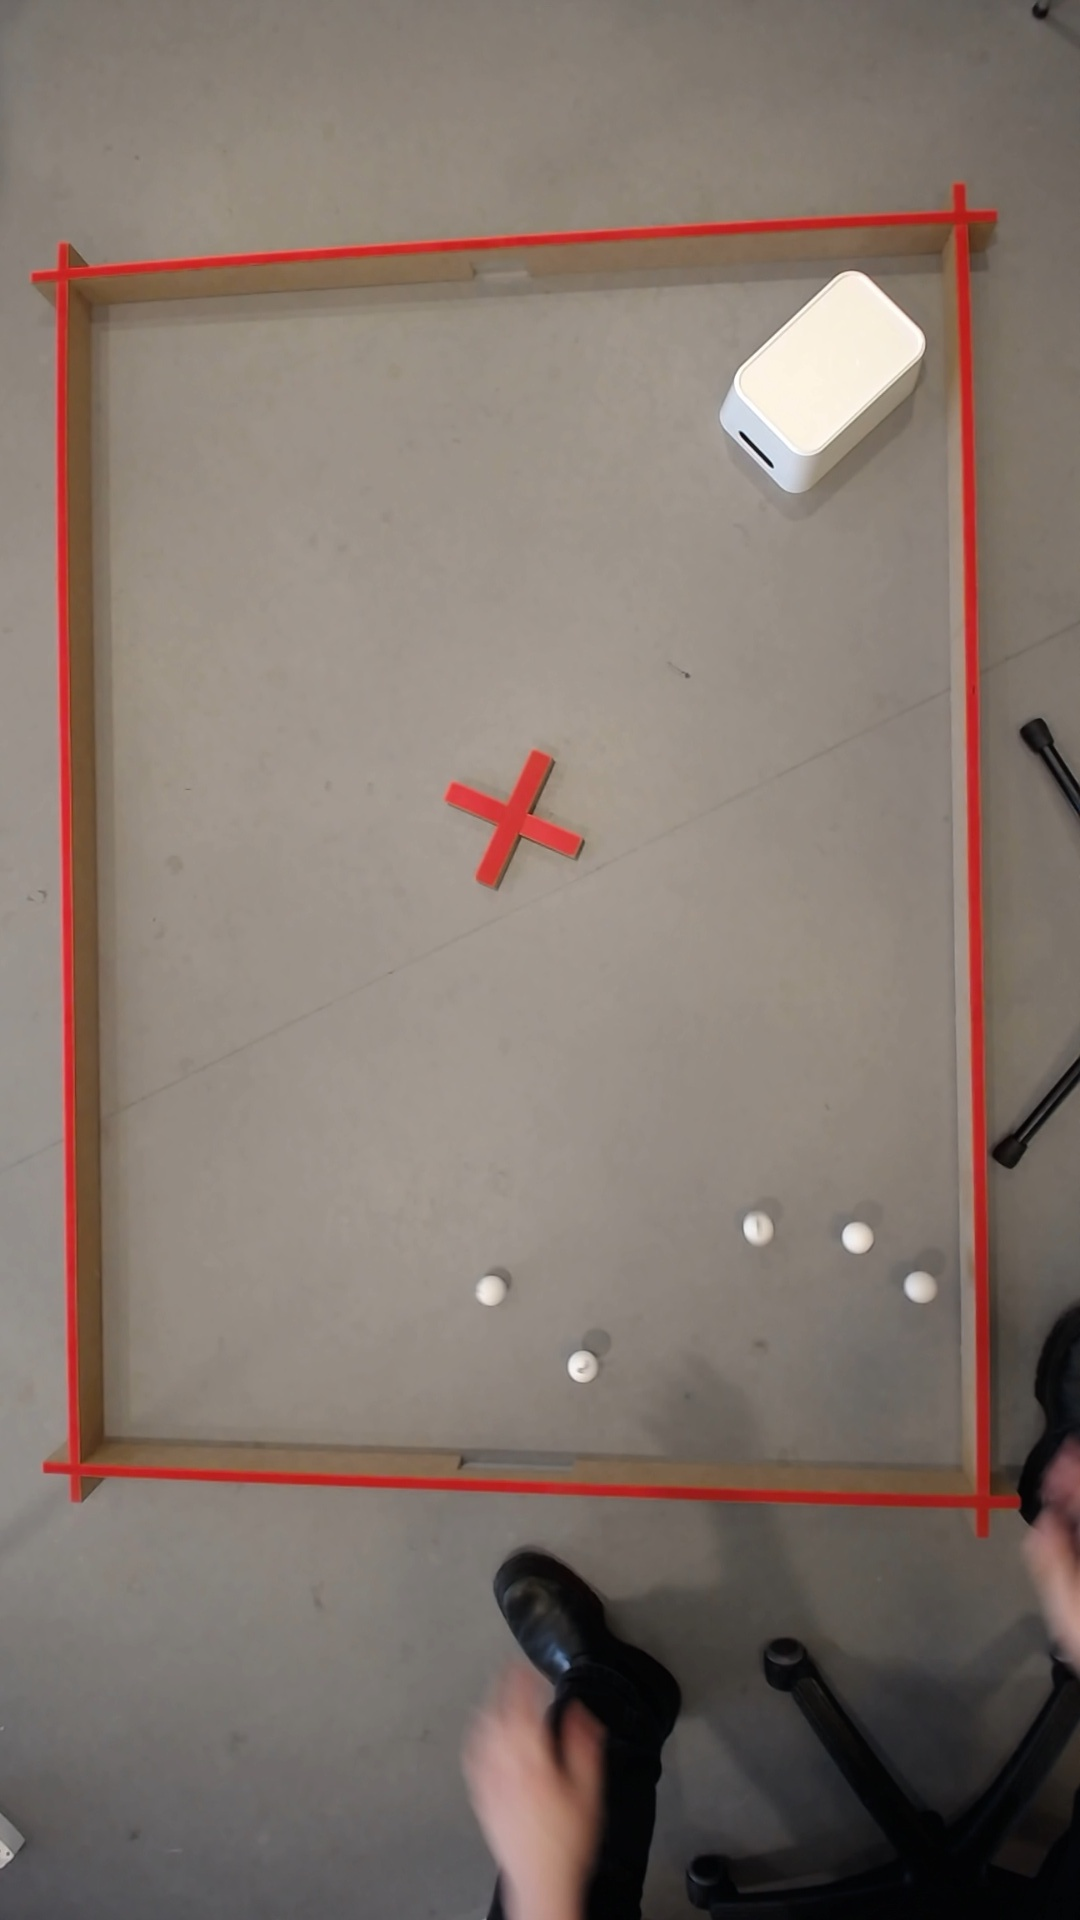balls: (699, 256, 934, 493), (487, 1797, 560, 1900), (836, 1217, 873, 1255), (562, 1348, 597, 1386), (471, 1273, 504, 1308)
car: (899, 1271, 932, 1303)
